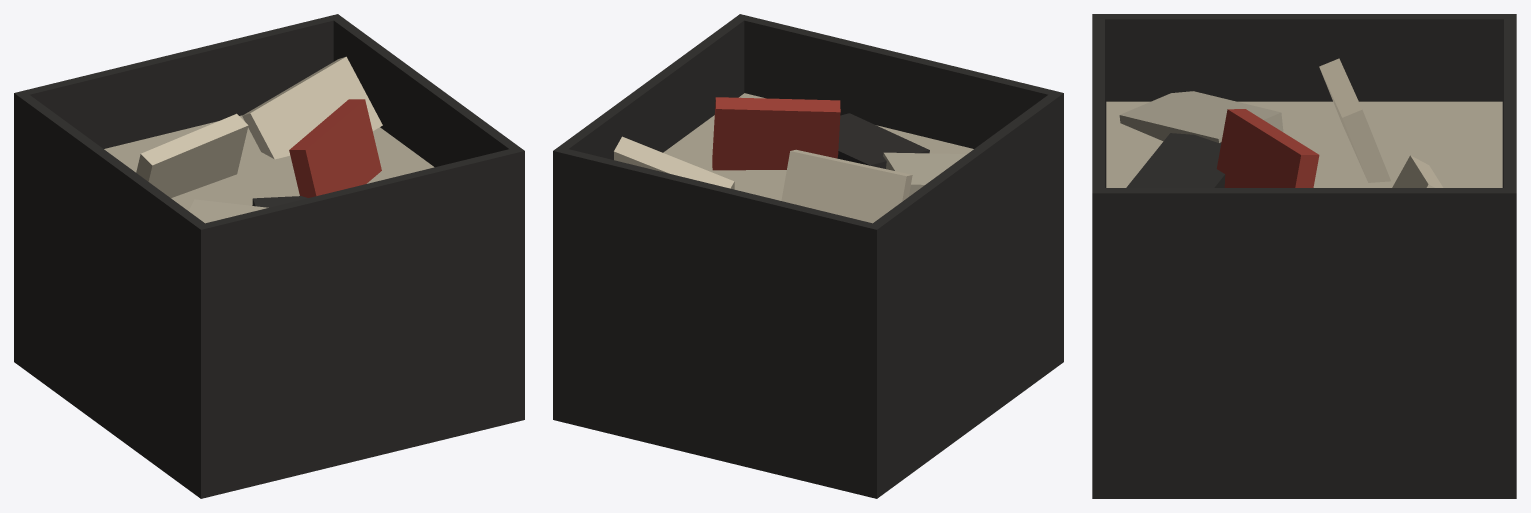
Rendered from tape-crate.glb.
The picture shows the model from 3 angles, left to right: view 1: azimuth 30°, elevation 25°; view 2: azimuth 150°, elevation 25°; view 3: azimuth 270°, elevation 25°; orthographic projection. The views are drawn at different scales.
Parts seen in each view (by area): view 1: plastic-dark, paper, plastic-light, accent-warm; view 2: plastic-dark, paper, accent-warm, plastic-light; view 3: plastic-dark, plastic-light, accent-warm, paper.
Boxes of the visible parts, x1,y1,x2,y2 form: plastic-dark: [14, 14, 524, 498]; paper: [136, 56, 382, 197]; plastic-light: [104, 115, 434, 223]; accent-warm: [289, 99, 381, 197]; plastic-dark: [553, 14, 1063, 498]; paper: [613, 136, 912, 223]; accent-warm: [712, 97, 840, 170]; plastic-light: [663, 93, 973, 200]; plastic-dark: [1092, 14, 1516, 498]; plastic-light: [1106, 91, 1502, 187]; accent-warm: [1216, 109, 1319, 187]; paper: [1319, 58, 1443, 187].
Bounding box in the file's own units: 0.33 × 0.2627 × 0.33.
